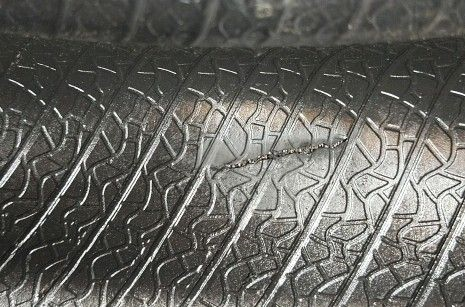cut: (207, 139, 350, 182)
